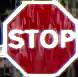Stop: (2, 1, 77, 76)
